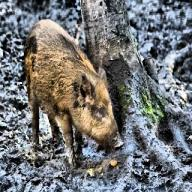boar: (22, 17, 122, 169)
